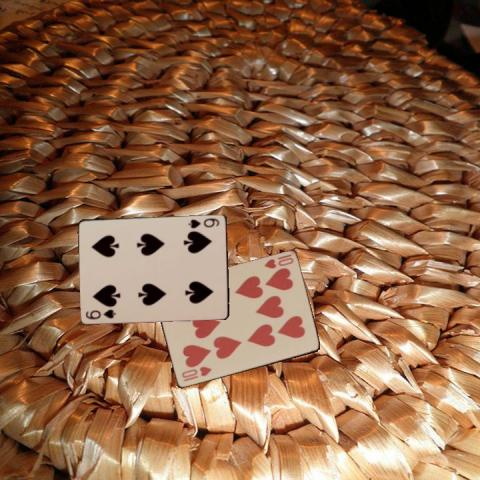10h: (179, 363, 213, 384), (261, 251, 295, 270)
6s: (185, 216, 221, 230), (83, 306, 117, 320)
